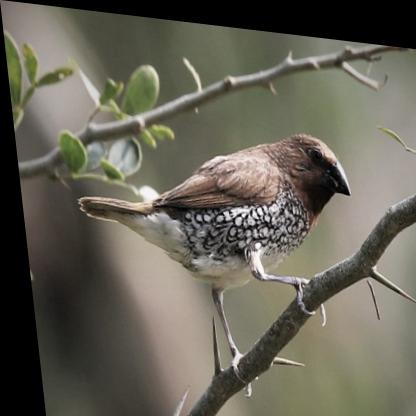Burung: (65, 103, 368, 402)
